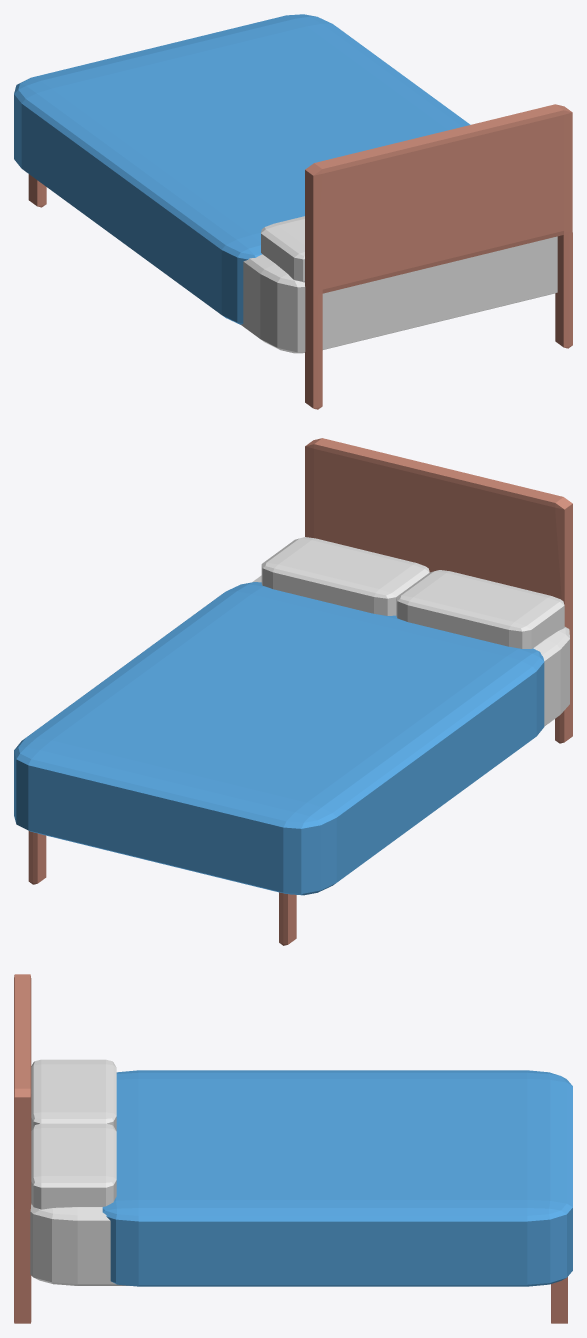
The model's file is cama_dcl.glb.
3 views of the same model, one above another, from view 1: azimuth 30°, elevation 25°; view 2: azimuth 150°, elevation 25°; view 3: azimuth 270°, elevation 25° (orthographic). The views are drawn at different scales.
Visible parts, largest first — view 1: Cube.001; view 2: Cube.001; view 3: Cube.001.
Boxes of the visible parts, bbox=[...] form: Cube.001: bbox=[14, 14, 572, 409]; Cube.001: bbox=[14, 438, 572, 945]; Cube.001: bbox=[14, 974, 572, 1323].
Size of what is drawn, in the model's own units: 8.19 by 5.95 by 12.96.
